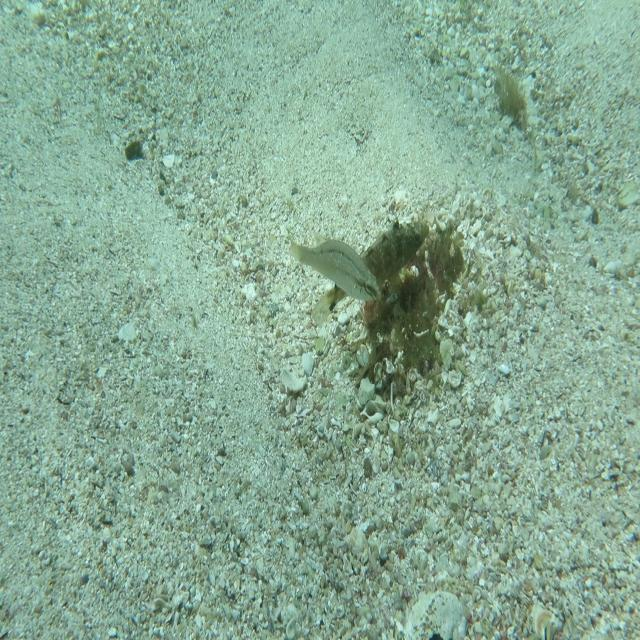ROLL: (309, 205, 432, 329)
core_nest: (417, 244, 451, 278)
female: (287, 228, 382, 304)
nest: (346, 203, 474, 419)
vegetation: (486, 60, 530, 128), (122, 135, 144, 165)
